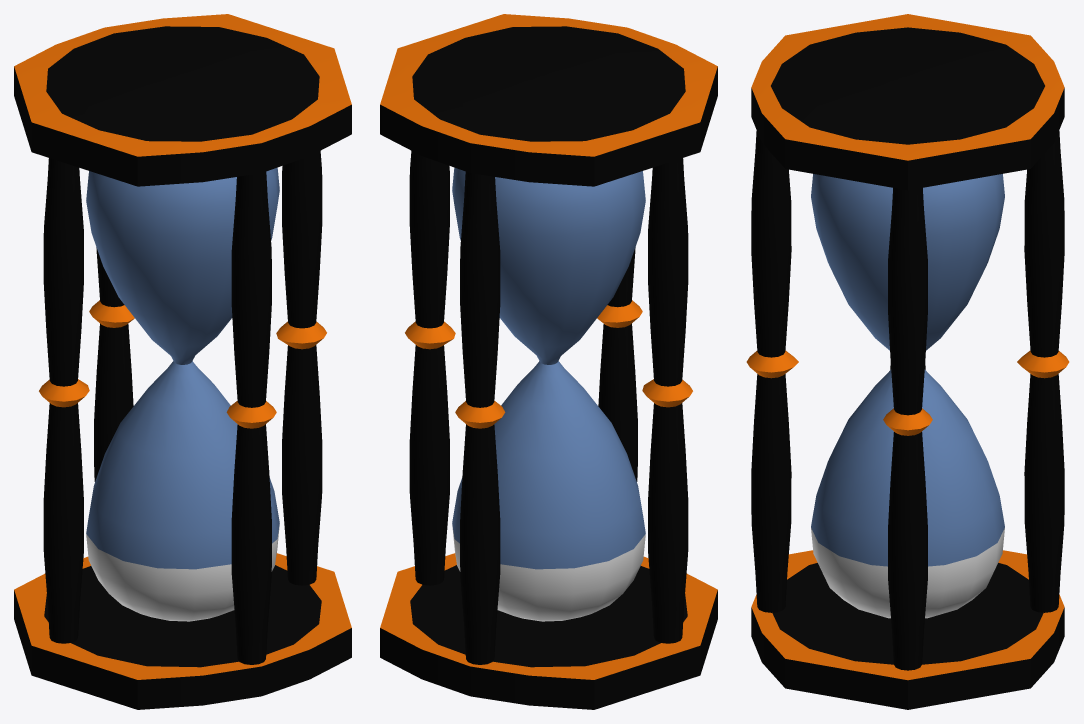
Rendered from Hourglass.fbx.
The picture shows the model from 3 angles, left to right: view 1: azimuth 30°, elevation 25°; view 2: azimuth 150°, elevation 25°; view 3: azimuth 270°, elevation 25°; orthographic projection.
Parts seen in each view (by area): view 1: Cylinder.004; view 2: Cylinder.004; view 3: Cylinder.004.
Part boxes in pixels (<box>): Cylinder.004: <box>14,14,351,709</box>; Cylinder.004: <box>380,14,717,709</box>; Cylinder.004: <box>746,14,1069,709</box>.
Bounding box in the file's own units: 9.77 × 17.21 × 9.09.
